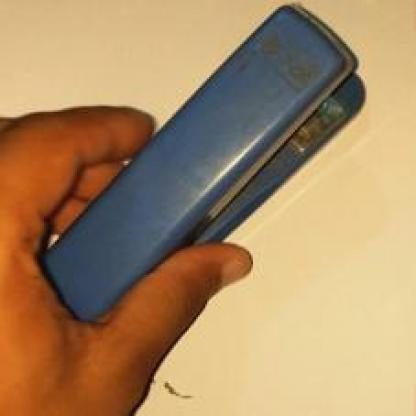stapler: (41, 15, 352, 351)
